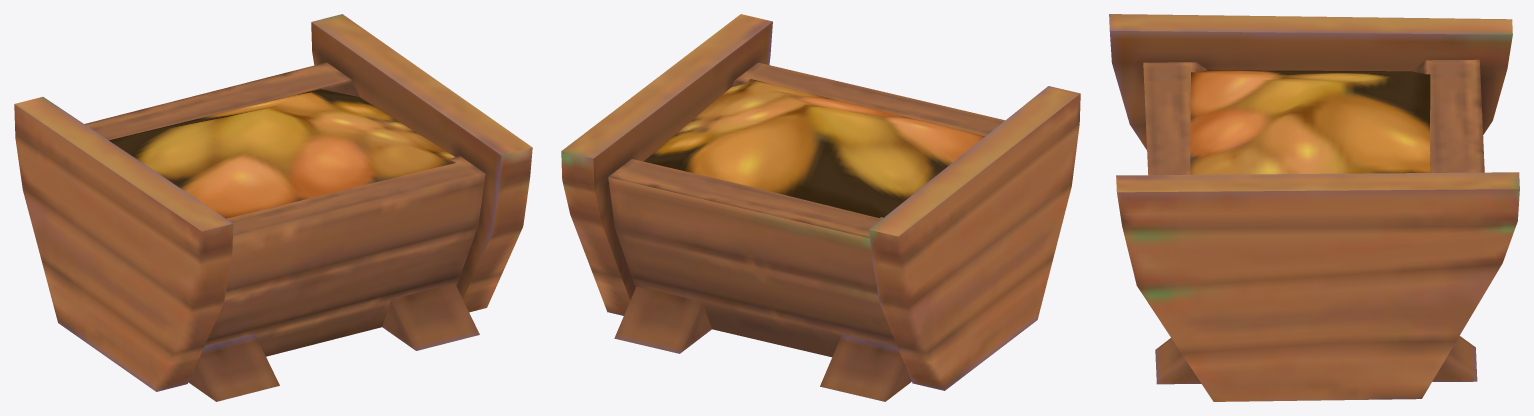
3 views of the same model, side by side, from view 1: azimuth 30°, elevation 25°; view 2: azimuth 150°, elevation 25°; view 3: azimuth 270°, elevation 25° (orthographic). The views are drawn at different scales.
Visible parts, largest first — view 1: zc_5_13; view 2: zc_5_13; view 3: zc_5_13.
Part boxes in pixels (left/top/right/bottom): zc_5_13: left=14, top=14, right=532, bottom=401; zc_5_13: left=561, top=14, right=1080, bottom=401; zc_5_13: left=1109, top=14, right=1519, bottom=401.
Bounding box in the file's own units: 1.54 × 0.886 × 1.48.
